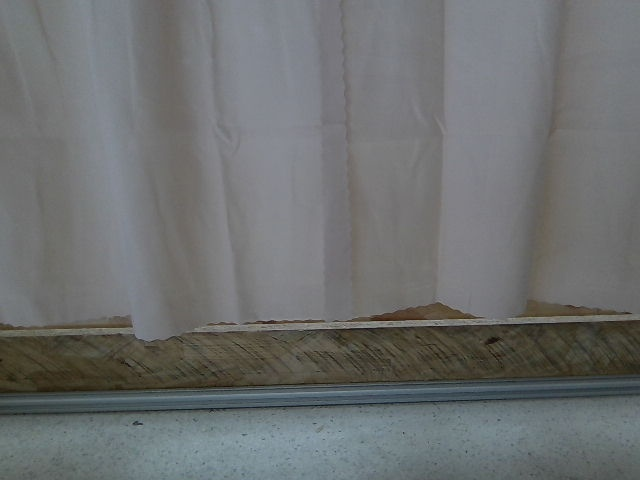curtain: (0, 0, 640, 326)
